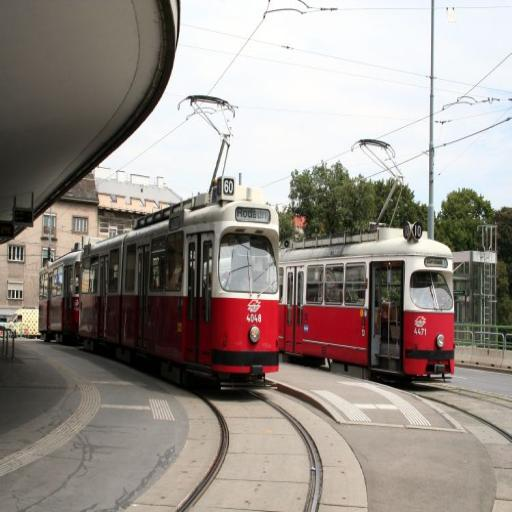E2-Tram: (36, 175, 284, 400), (280, 209, 462, 389)
